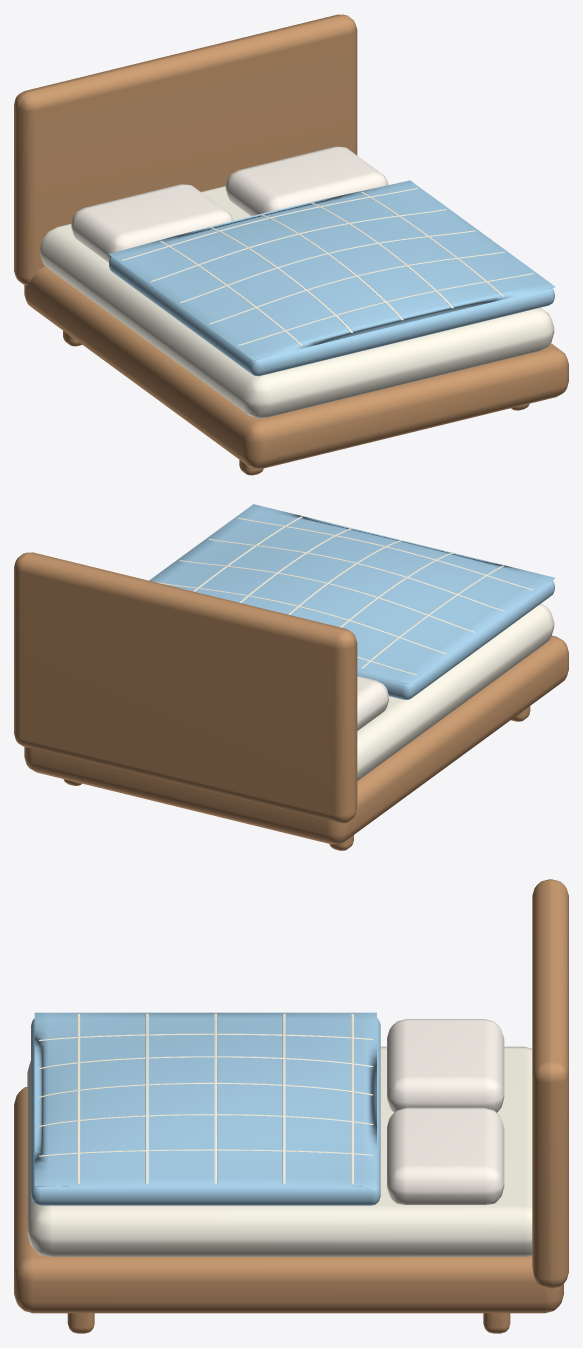
File: bed-houseE.glb
The picture shows the model from 3 angles, top to bottom: view 1: azimuth 30°, elevation 25°; view 2: azimuth 150°, elevation 25°; view 3: azimuth 270°, elevation 25°; orthographic projection. The views are drawn at different scales.
Parts seen in each view (by area): view 1: Headboard, Soft quilt cloth, Bed frame, Mattress, Quilt padded hem, Pillow, Pillow.001; view 2: Headboard, Soft quilt cloth, Bed frame, Mattress, Quilt padded hem, Pillow, Quilt stitching.007, Quilt stitching.006, Quilt stitching.005, Quilt stitching.008; view 3: Soft quilt cloth, Mattress, Bed frame, Headboard, Pillow.001, Pillow, Quilt padded hem, Quilt stitching.007, Quilt stitching.008, Quilt stitching.006, Quilt stitching.005, Quilt stitching.003 (+4 smaller).
Part boxes in pixels (bbox=[...]): Headboard: bbox=[14, 14, 357, 285]; Soft quilt cloth: bbox=[109, 180, 555, 360]; Bed frame: bbox=[24, 266, 568, 468]; Mattress: bbox=[40, 186, 554, 418]; Quilt padded hem: bbox=[109, 256, 554, 376]; Pillow: bbox=[71, 184, 233, 262]; Pillow.001: bbox=[225, 146, 388, 216]; Headboard: bbox=[14, 552, 357, 823]; Soft quilt cloth: bbox=[149, 504, 554, 684]; Bed frame: bbox=[24, 635, 568, 844]; Mattress: bbox=[357, 603, 554, 780]; Quilt padded hem: bbox=[357, 580, 554, 699]; Pillow: bbox=[357, 676, 388, 730]; Quilt stitching.007: bbox=[179, 560, 475, 632]; Quilt stitching.006: bbox=[208, 539, 504, 611]; Quilt stitching.005: bbox=[238, 517, 533, 590]; Quilt stitching.008: bbox=[155, 582, 446, 654]; Soft quilt cloth: bbox=[34, 1012, 376, 1187]; Mattress: bbox=[27, 1046, 532, 1256]; Bed frame: bbox=[14, 1087, 563, 1313]; Headboard: bbox=[532, 879, 568, 1288]; Pillow.001: bbox=[387, 1107, 504, 1204]; Pillow: bbox=[387, 1019, 504, 1112]; Quilt padded hem: bbox=[31, 1018, 380, 1205]; Quilt stitching.007: bbox=[214, 1013, 217, 1183]; Quilt stitching.008: bbox=[282, 1013, 285, 1183]; Quilt stitching.006: bbox=[145, 1013, 148, 1183]; Quilt stitching.005: bbox=[77, 1014, 80, 1183]; Quilt stitching.003: bbox=[38, 1114, 373, 1126].
Size of the model in its own units: 1.88 by 1.28 by 2.27.
